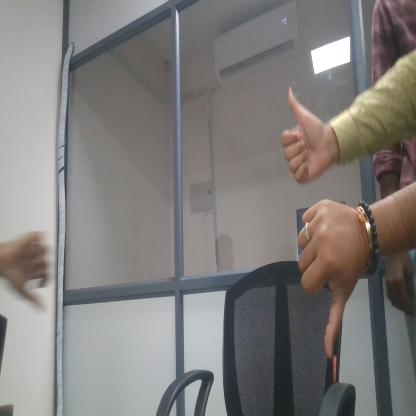Thumbs Down: (290, 196, 366, 366)
Thumbs up: (267, 72, 343, 190)
